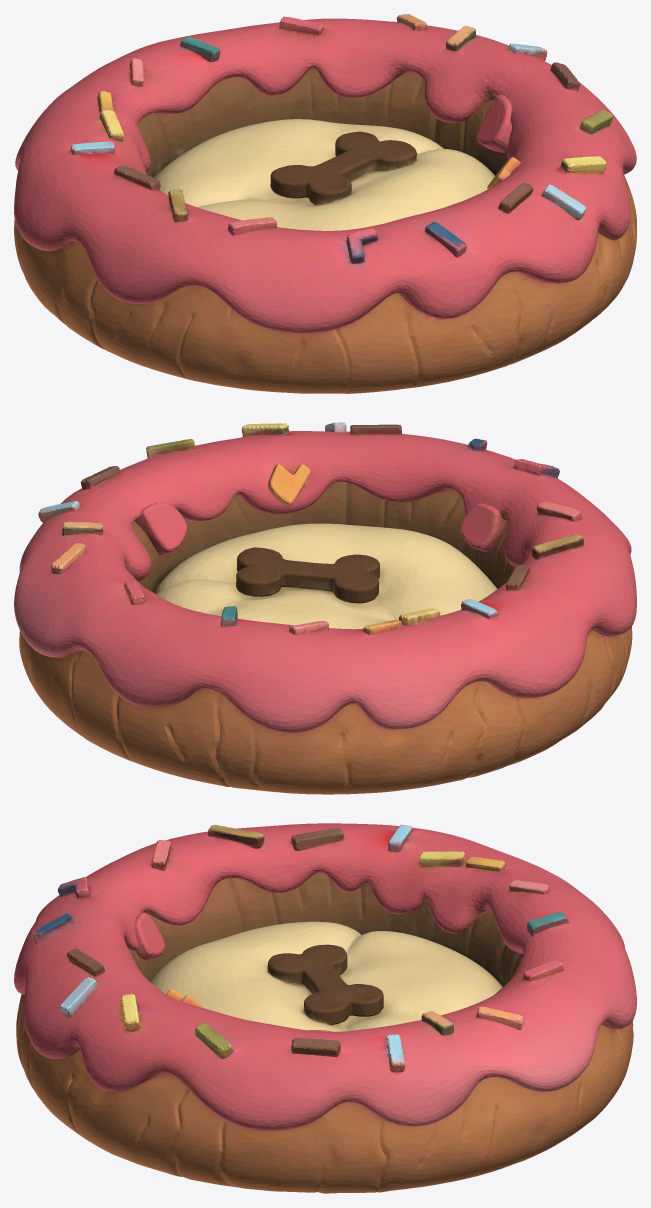
The picture shows the model from 3 angles, top to bottom: view 1: azimuth 30°, elevation 25°; view 2: azimuth 150°, elevation 25°; view 3: azimuth 270°, elevation 25°; orthographic projection. The views are drawn at different scales.
Visible parts, largest first — view 1: tripo_node_81c847ce-998f-4068-93c3-ae5f961a292d; view 2: tripo_node_81c847ce-998f-4068-93c3-ae5f961a292d; view 3: tripo_node_81c847ce-998f-4068-93c3-ae5f961a292d.
Part boxes in pixels (box(x1,y1,x2,y2)): tripo_node_81c847ce-998f-4068-93c3-ae5f961a292d: box(14, 14, 636, 393); tripo_node_81c847ce-998f-4068-93c3-ae5f961a292d: box(14, 422, 636, 794); tripo_node_81c847ce-998f-4068-93c3-ae5f961a292d: box(14, 823, 636, 1193).
Size of the model in its own units: 0.9799 by 0.2718 by 0.9727.
Materials: 1 (1 with a texture image).
